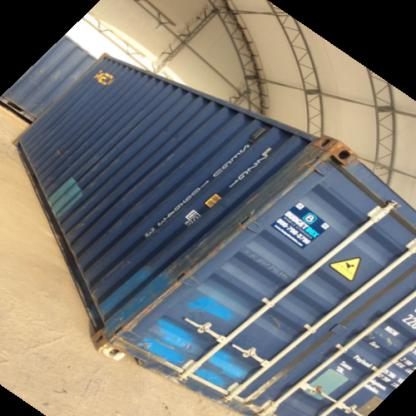Damage: (244, 138, 353, 214), (96, 279, 176, 342), (174, 212, 249, 275), (102, 328, 173, 371), (228, 366, 288, 405)
